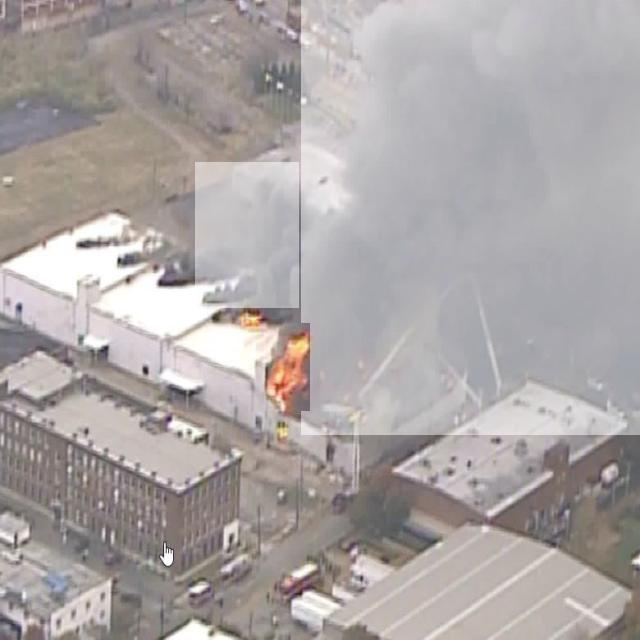Fire: (265, 323, 310, 411)
Smoke: (301, 0, 640, 435), (195, 162, 299, 308)
